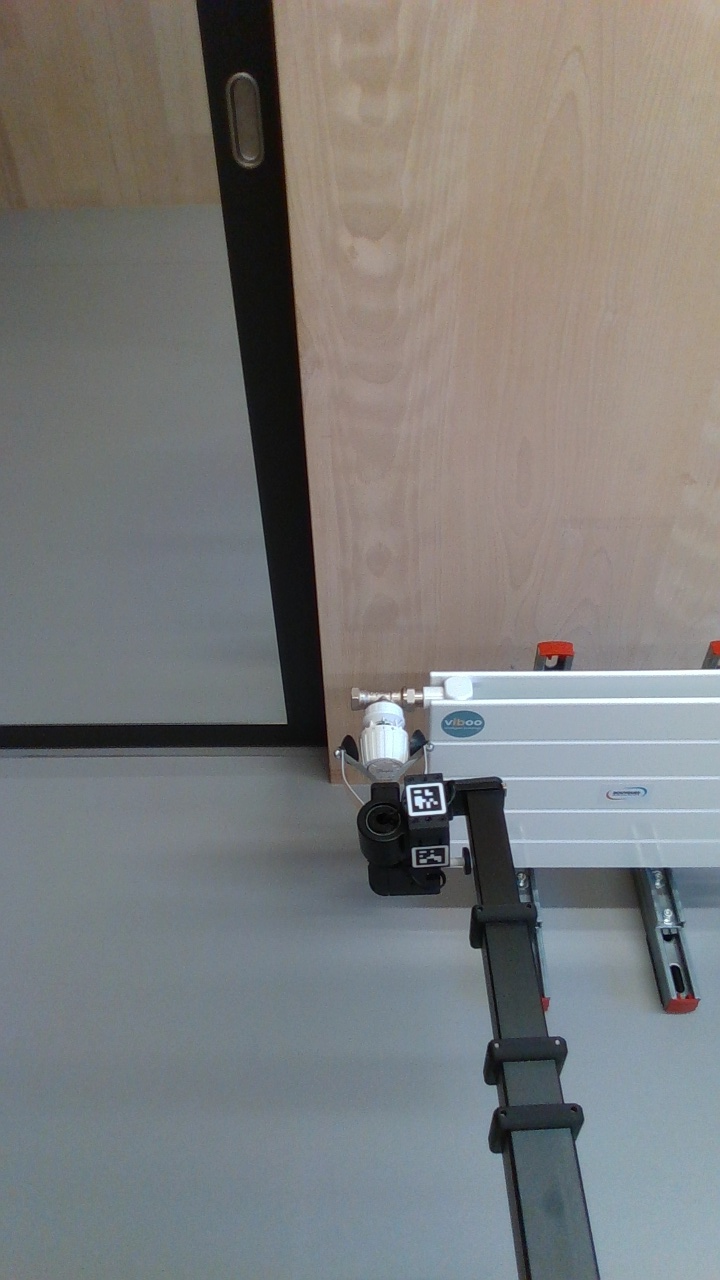Knob_Radiator: (351, 689, 420, 784)
Radiator: (419, 663, 720, 868)
